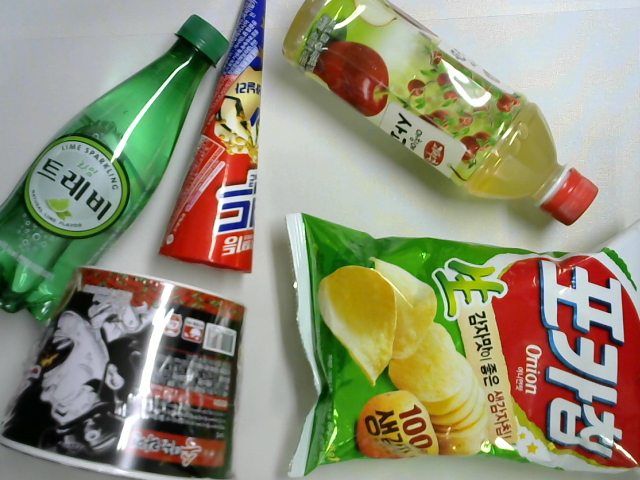HeJangsock: (1, 262, 252, 479)
Morning_Apple_500ml: (279, 1, 604, 235)
Pocachip_Onion: (269, 205, 638, 480)
Treviraim_500ml: (1, 9, 238, 325)
World_Cone_Banila: (154, 1, 271, 278)
